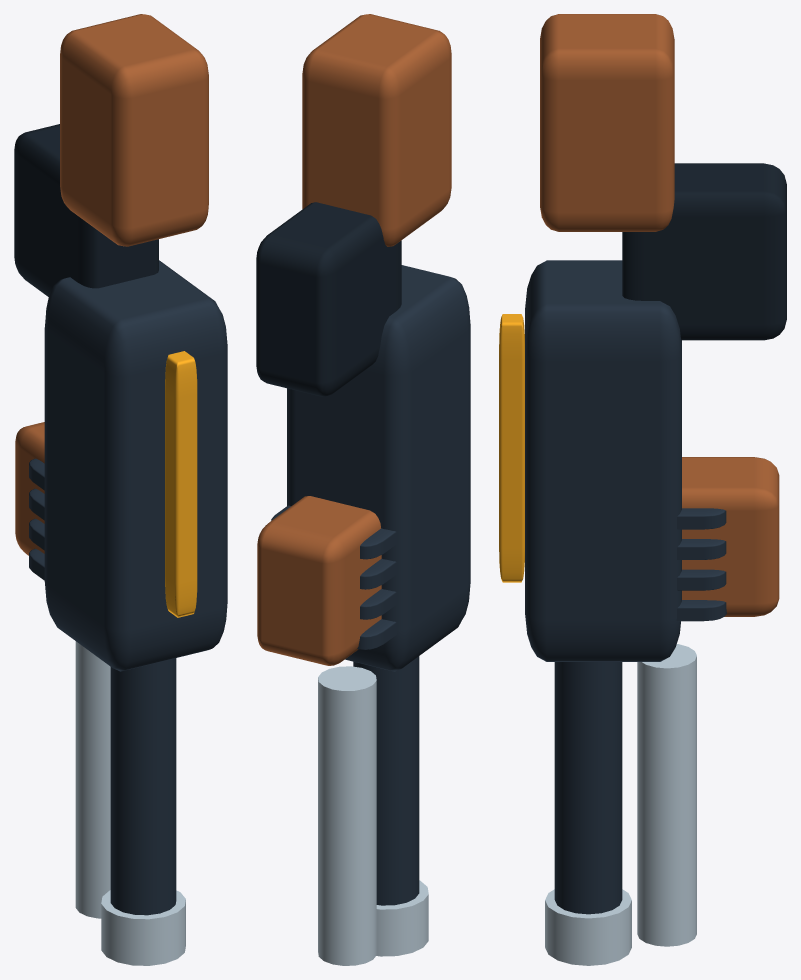
Rendered from shotgun-0.glb.
3 views of the same model, side by side, from view 1: azimuth 30°, elevation 25°; view 2: azimuth 150°, elevation 25°; view 3: azimuth 270°, elevation 25° (orthographic).
Bounding box in the file's own units: 0.19 × 1.35 × 0.3845.
